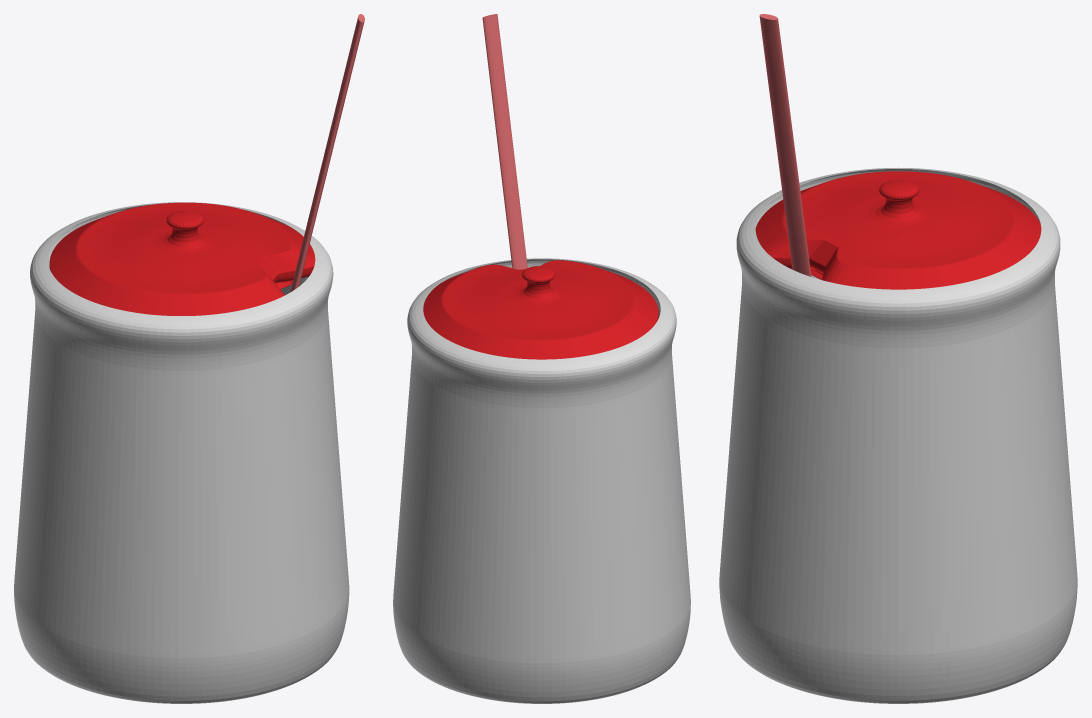
The model's file is Sugar pot.fbx.
The picture shows the model from 3 angles, left to right: view 1: azimuth 30°, elevation 25°; view 2: azimuth 150°, elevation 25°; view 3: azimuth 270°, elevation 25°; orthographic projection. The views are drawn at different scales.
Parts seen in each view (by area): view 1: Pot, Top, Cylinder; view 2: Pot, Top, Cylinder; view 3: Pot, Top, Cylinder.
Boxes of the visible parts, x1,y1,x2,y2 form: Pot: (14,202,349,703); Top: (49,202,315,315); Cylinder: (290,14,364,292); Pot: (393,258,690,703); Top: (423,260,658,359); Cylinder: (482,14,527,269); Pot: (719,167,1077,703); Top: (755,171,1041,289); Cylinder: (759,14,811,276).
Size of the model in its own units: 367 by 768 by 367.
